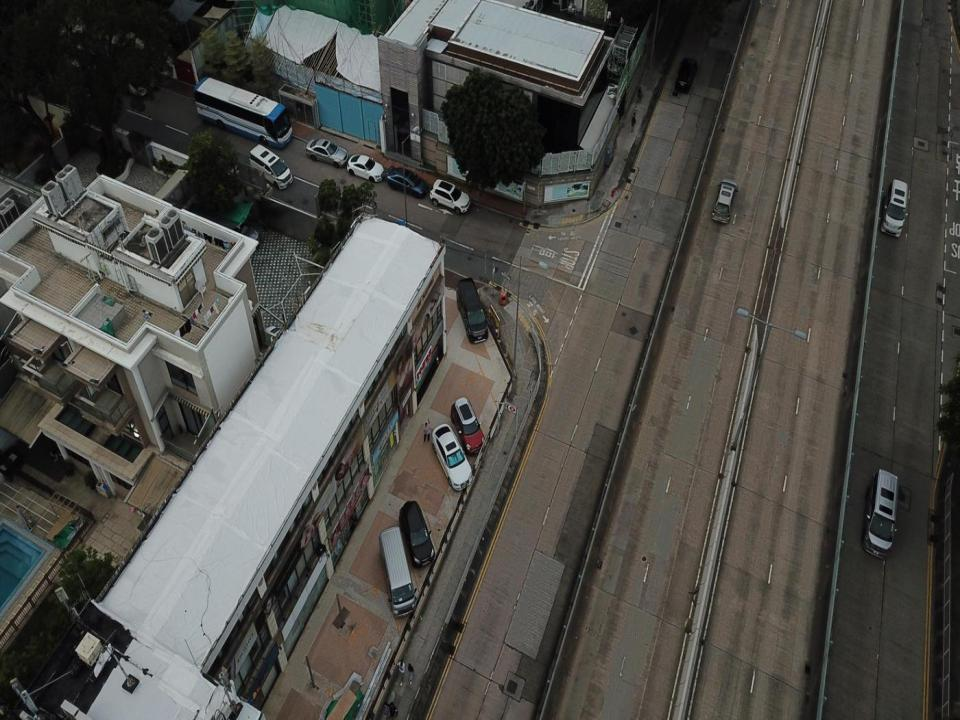bus: (196, 76, 294, 152)
car: (432, 422, 473, 493), (399, 501, 436, 567), (450, 397, 485, 454), (430, 178, 470, 217), (306, 138, 348, 169), (712, 178, 738, 227), (387, 168, 427, 197), (346, 152, 384, 182), (677, 58, 695, 96), (397, 660, 407, 684), (406, 662, 414, 686), (635, 85, 644, 104), (630, 110, 637, 132), (423, 422, 430, 443)
van: (379, 524, 416, 618), (861, 469, 896, 562), (248, 143, 292, 191), (457, 277, 488, 343), (880, 179, 909, 239)
